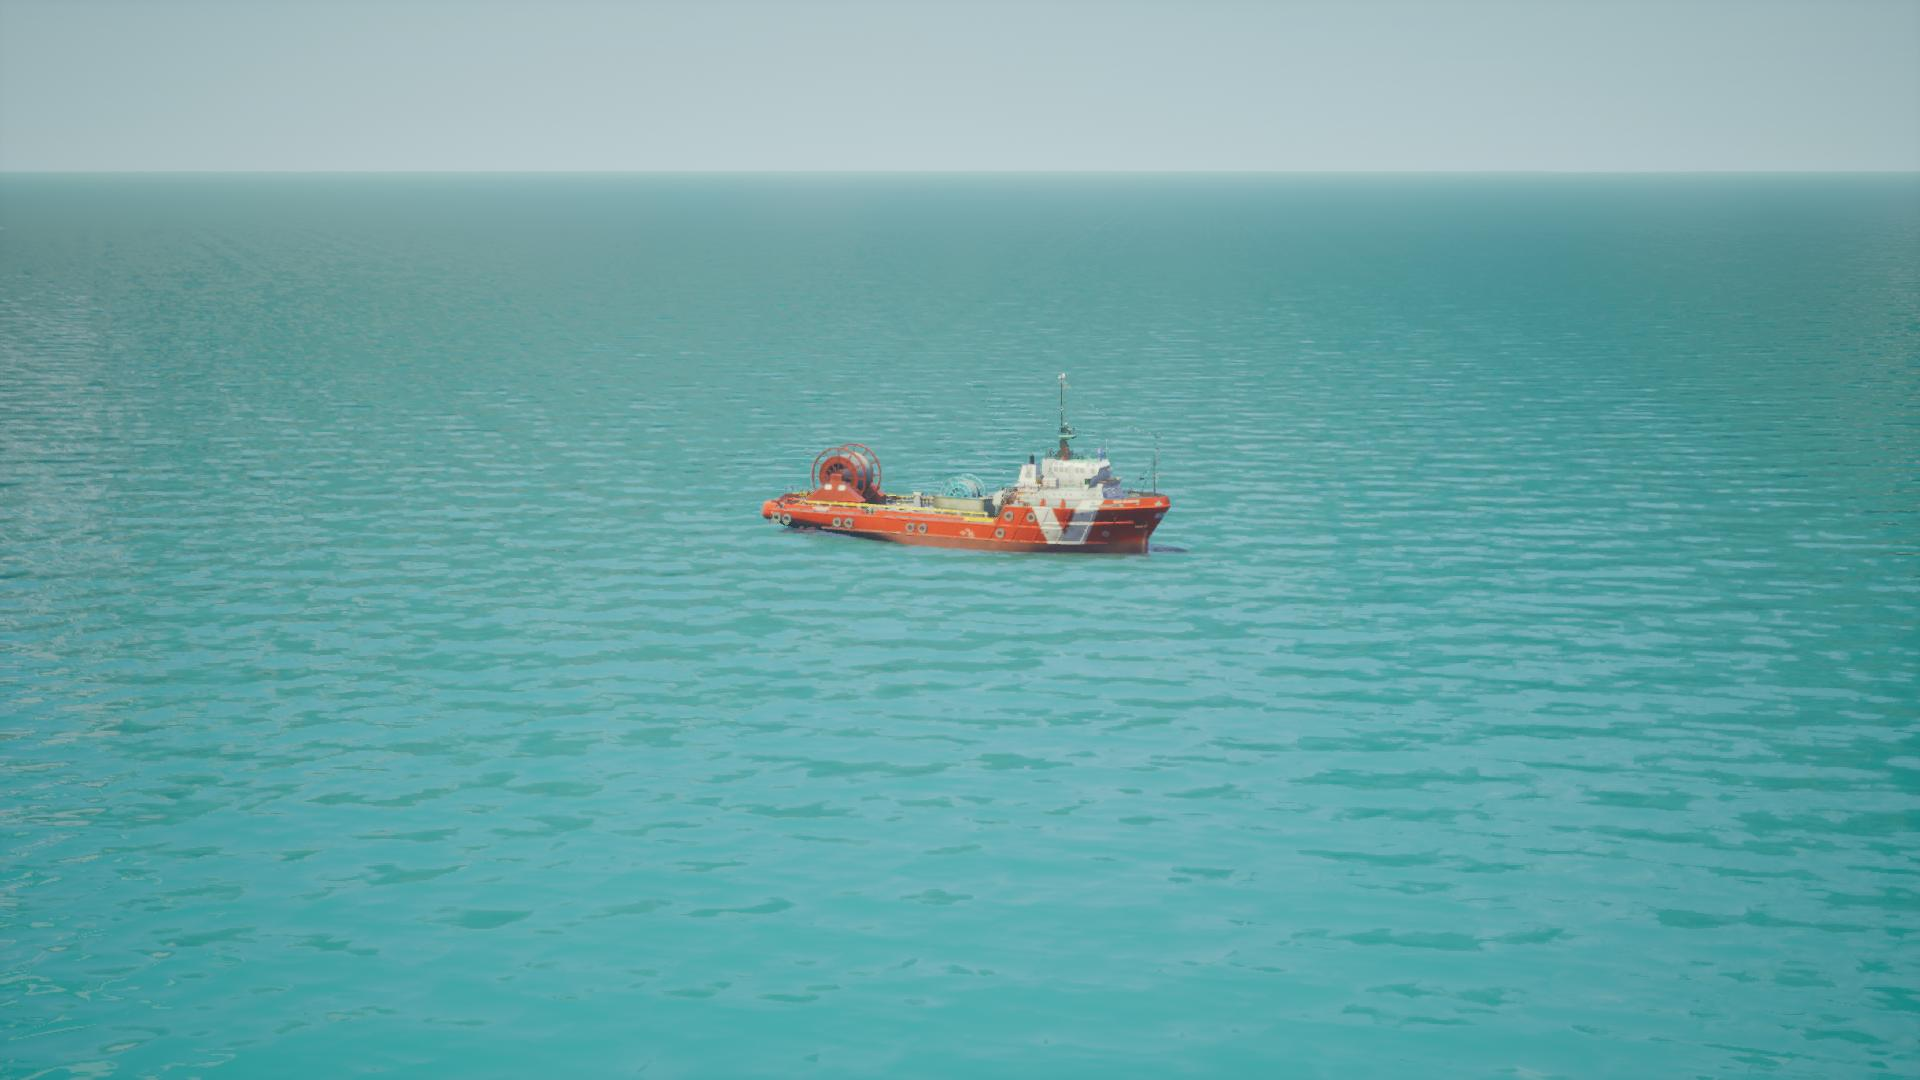Tug Boat: (750, 418, 1182, 564)
